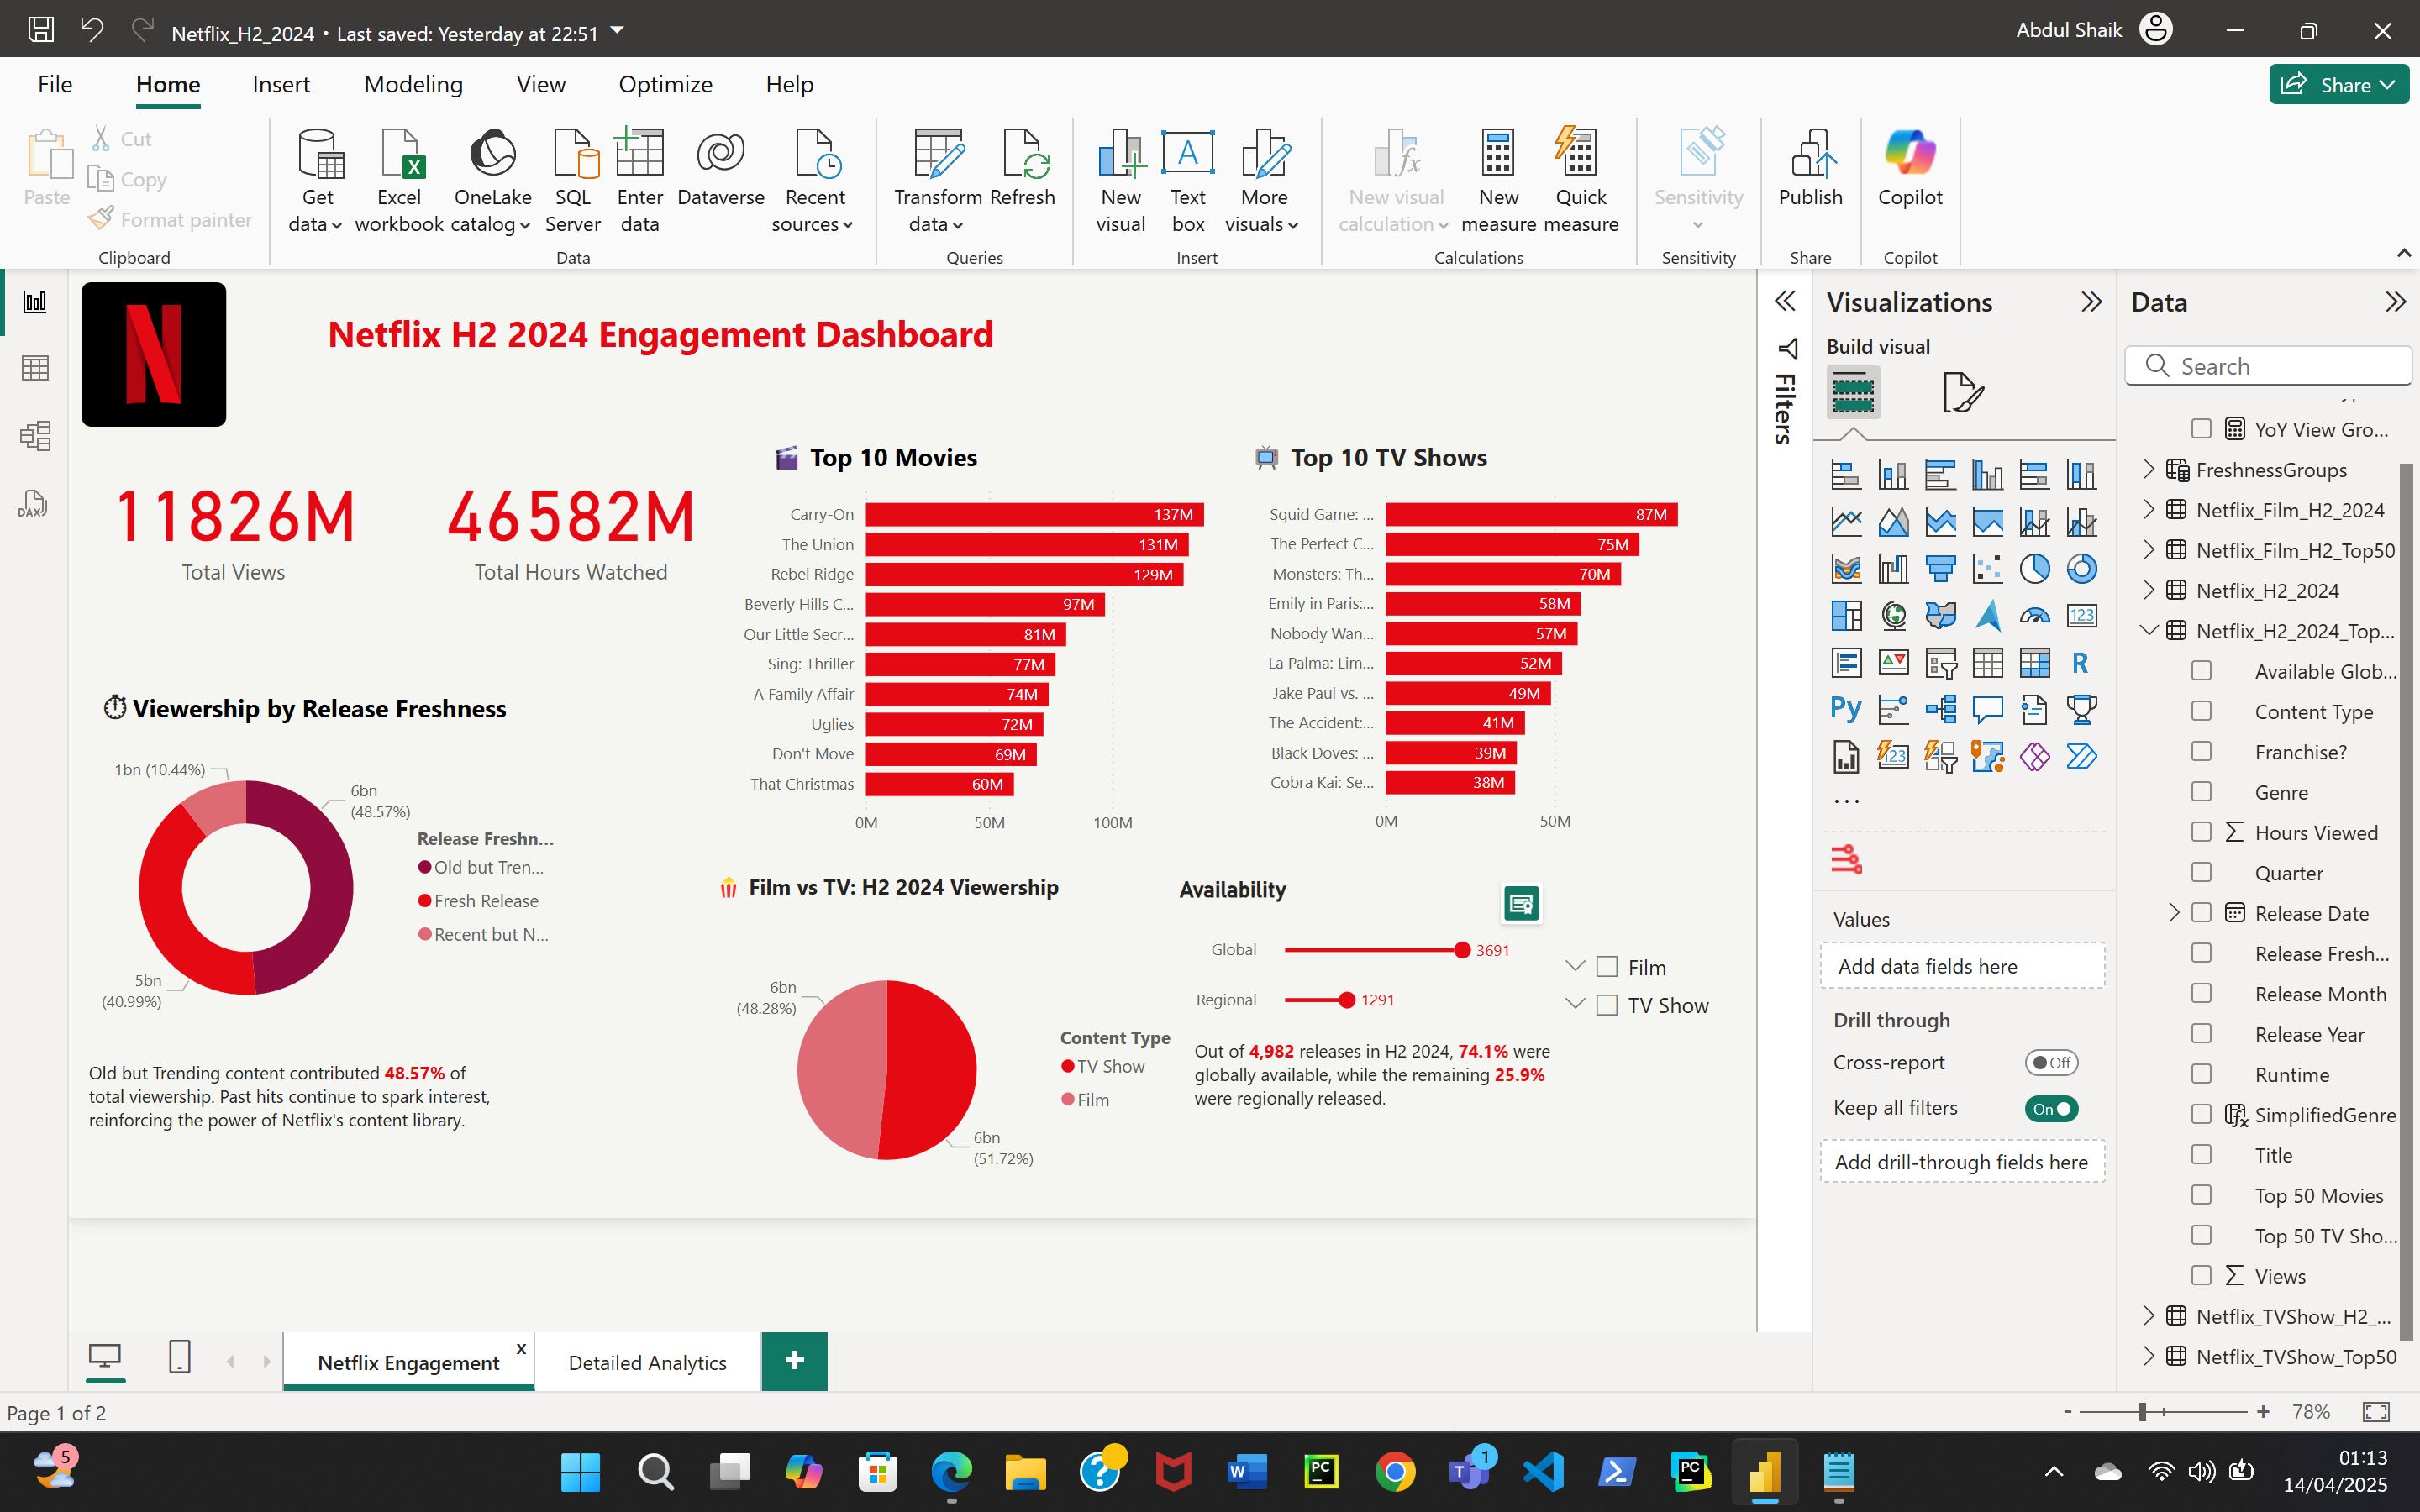

The page's visual inventory and layout, read from the dashboard file:
{"tool":"powerbi","page":{"name":"Netflix Engagement","canvas":[1280,720],"ordinal":0},"visuals":[{"type":"image","box":[0,0,128.9,130],"z":0},{"type":"textbox","box":[191.6,25.5,559.5,56.2],"z":1000},{"type":"card","fields":{"Values":["Netflix_H2_2024.Total Hours Watched"]},"box":[267.7,130,226.9,122.4],"z":2000},{"type":"card","title":"Total Views","fields":{"Values":["Netflix_H2_2024.Total Views"]},"box":[0,130,249.9,122.4],"z":3000},{"type":"donutChart","title":"Total Views by Release Freshness","fields":{"Category":["Netflix_H2_2024.Release Freshness"],"Y":["Netflix_H2_2024.Total Views"]},"box":[0,330.2,381.2,279.2],"z":4000},{"type":"textbox","box":[10.2,595.4,326.4,96.9],"z":5000},{"type":"barChart","title":"Top 10 Movies","fields":{"Category":["Netflix_Film_H2_2024.Title"],"Y":["Sum(Netflix_Film_H2_2024.Views)"]},"box":[494.7,155.5,387.6,283],"z":6000},{"type":"barChart","title":"Top 10 Shows","fields":{"Category":["Netflix_TVShow_H2_2024.Title"],"Y":["Sum(Netflix_TVShow_H2_2024.Views)"]},"box":[891.2,155.5,378.6,281.8],"z":7000},{"type":"pieChart","title":"TV vs Film: H2 2024 Viewership","fields":{"Category":["Netflix_H2_2024.Content Type"],"Y":["Sum(Netflix_H2_2024.Views)"]},"box":[484.5,510,373.5,196.3],"z":8000},{"type":"slicer","fields":{"Values":["Netflix_H2_2024.Content Type","Netflix_H2_2024.Release Freshness","Netflix_H2_2024.Release Year","Netflix_H2_2024.Available Globally?"]},"box":[1121.9,510,158.1,210.4],"z":9000},{"type":"textbox","box":[10.2,312.4,358.2,47.2],"z":10000},{"type":"textbox","box":[526.5,124.9,300.9,39.5],"z":11000},{"type":"textbox","box":[891.2,124.9,336.6,39.5],"z":12000},{"type":"textbox","box":[484.5,452.6,286.9,34.4],"z":13000},{"type":"lollipopBarChart29115F0ADEDB437DBCDF8E8A3E66E088","title":"Availability","fields":{"axis":["Netflix_H2_2024.Availability"],"values":["Netflix_H2_2024.Total Titles Available"]},"box":[837.6,461.5,284.3,124.9],"z":14000},{"type":"textbox","box":[849.1,578.8,300.9,65],"z":15000}]}

Visuals, with their boxes on the page's 1280x720 design canvas (x1, y1, x2, y2). These are canvas units, not pixel positions in the 2420x1512 screenshot, which may show the page scaled, cropped or inside an application window:
image: x1=0, y1=0, x2=129, y2=130
textbox: x1=192, y1=26, x2=751, y2=82
card - Netflix_H2_2024.Total Hours Watched: x1=268, y1=130, x2=495, y2=252
"Total Views" card: x1=0, y1=130, x2=250, y2=252
"Total Views by Release Freshness" donutChart: x1=0, y1=330, x2=381, y2=609
textbox: x1=10, y1=595, x2=337, y2=692
"Top 10 Movies" barChart: x1=495, y1=156, x2=882, y2=438
"Top 10 Shows" barChart: x1=891, y1=156, x2=1270, y2=437
"TV vs Film: H2 2024 Viewership" pieChart: x1=484, y1=510, x2=858, y2=706
slicer - Netflix_H2_2024.Content Type x Netflix_H2_2024.Release Freshness: x1=1122, y1=510, x2=1280, y2=720
textbox: x1=10, y1=312, x2=368, y2=360
textbox: x1=526, y1=125, x2=827, y2=164
textbox: x1=891, y1=125, x2=1228, y2=164
textbox: x1=484, y1=453, x2=771, y2=487
"Availability" lollipopBarChart29115F0ADEDB437DBCDF8E8A3E66E088: x1=838, y1=462, x2=1122, y2=586
textbox: x1=849, y1=579, x2=1150, y2=644
